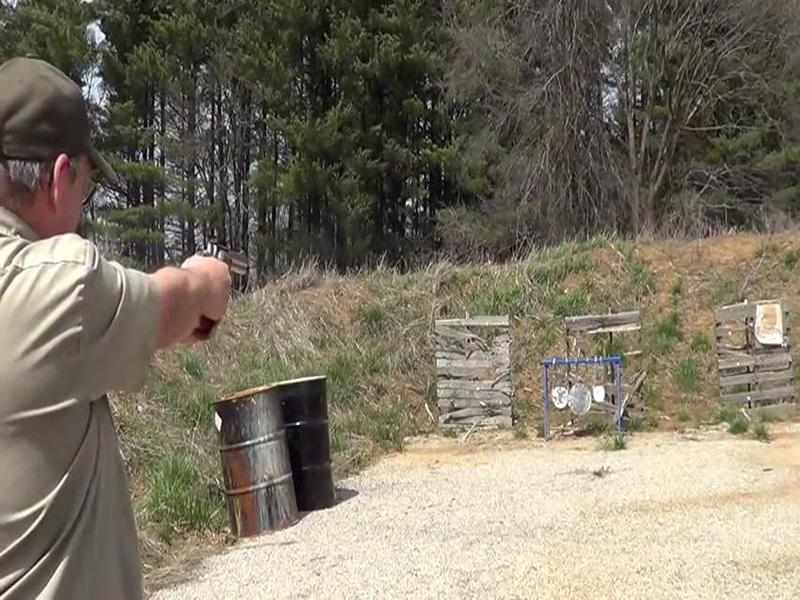Revolver: (162, 233, 267, 294)
